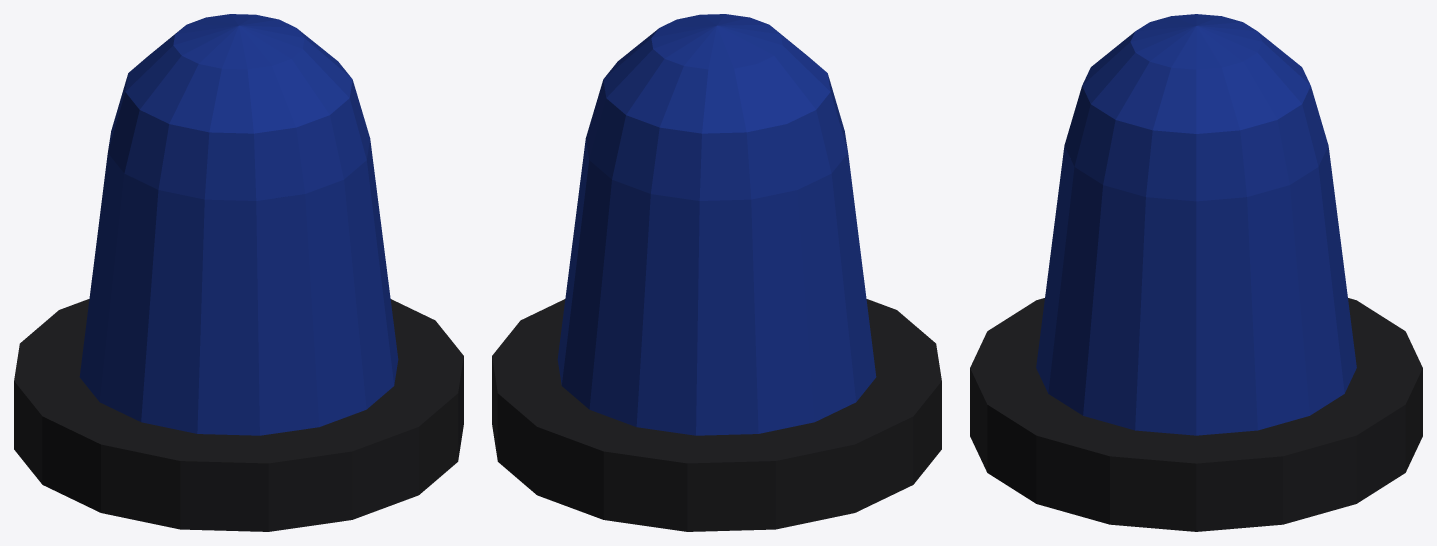
Rendered from majak_vb.glb.
3 renders of one model, left to right at view 1: azimuth 30°, elevation 25°; view 2: azimuth 150°, elevation 25°; view 3: azimuth 270°, elevation 25°, orthographic.
Parts seen in each view (by area): view 1: majak_00; view 2: majak_00; view 3: majak_00.
Boxes of the visible parts, x1,y1,x2,y2 form: majak_00: [14, 14, 463, 531]; majak_00: [492, 14, 941, 531]; majak_00: [970, 14, 1422, 531].
Size of the model in its own units: 0.24 by 0.24 by 0.24.
